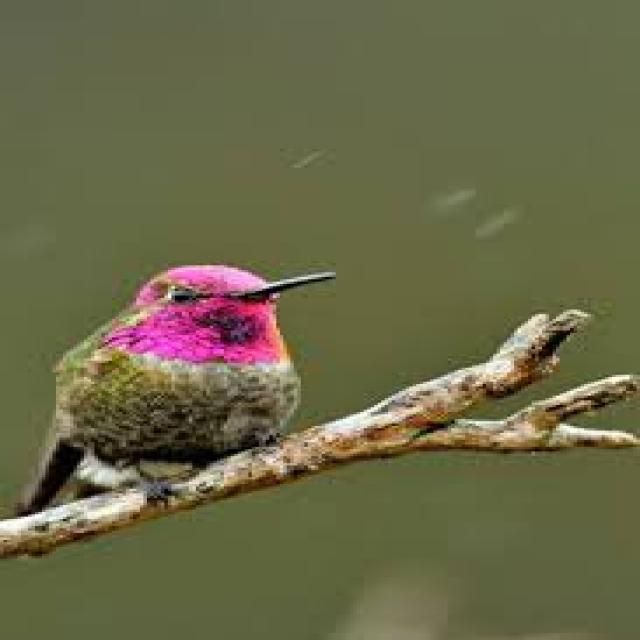Humming Bird: (23, 254, 360, 512)
